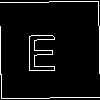E: (25, 24, 58, 72)
